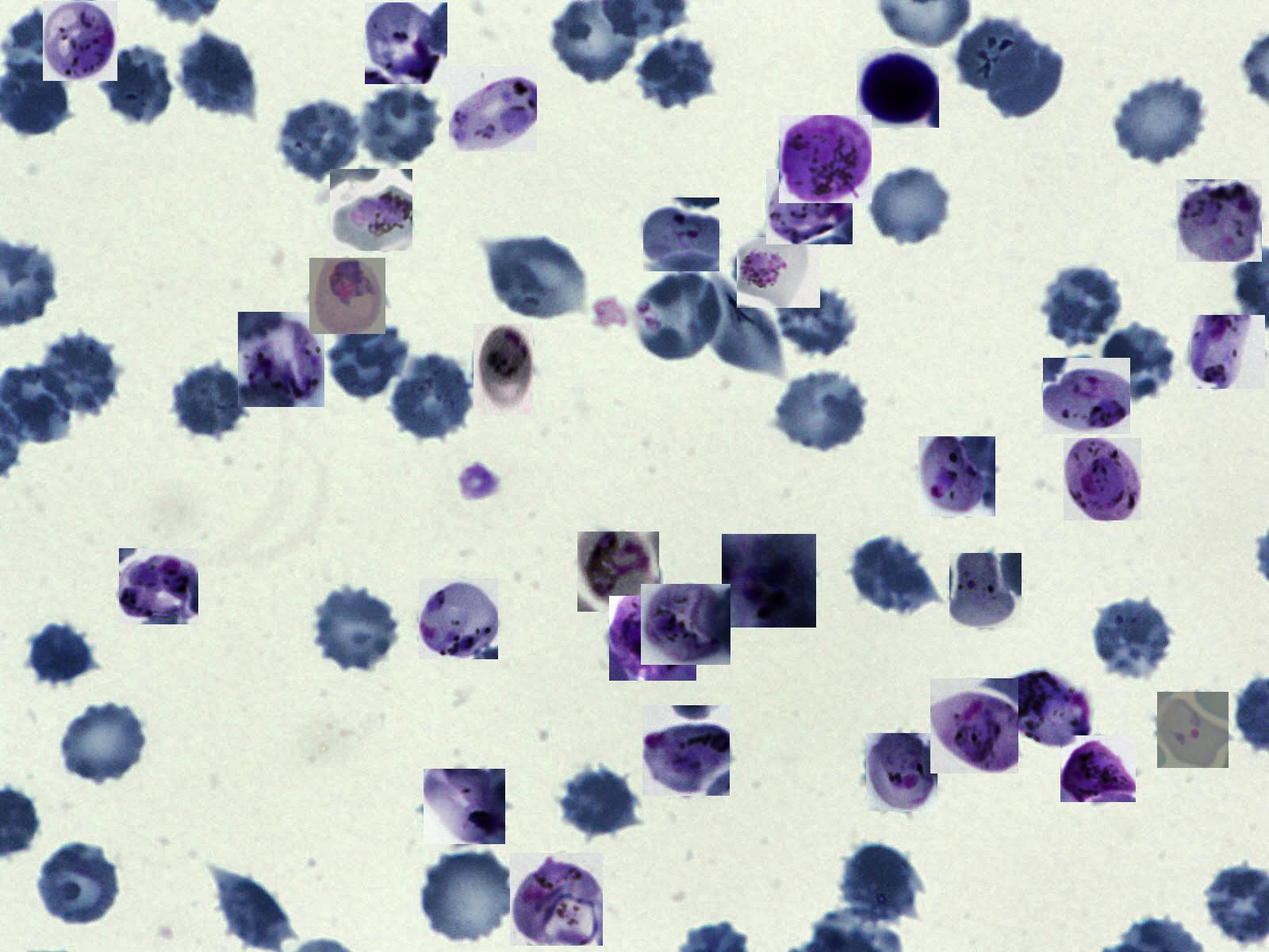Infected: (723, 534, 816, 628), (510, 853, 603, 946), (930, 678, 1018, 774), (779, 115, 872, 203), (238, 312, 324, 407), (642, 705, 730, 796), (1000, 666, 1092, 752), (449, 66, 537, 152), (609, 596, 696, 681), (642, 584, 731, 665), (1176, 179, 1262, 262), (330, 169, 412, 251), (365, 2, 447, 84), (1043, 358, 1130, 434), (857, 48, 939, 128), (577, 532, 659, 612), (766, 169, 853, 244), (419, 578, 498, 659), (1064, 438, 1141, 520), (918, 436, 995, 516), (424, 769, 505, 844), (119, 548, 198, 624), (43, 1, 117, 81), (737, 237, 820, 308), (310, 258, 386, 334), (866, 733, 937, 812), (1190, 315, 1265, 389), (643, 198, 719, 271), (949, 553, 1022, 628), (1157, 692, 1229, 768), (473, 324, 533, 415), (1060, 735, 1136, 802)
Uninfected: (420, 848, 515, 946), (486, 233, 588, 322), (697, 275, 785, 374), (1114, 76, 1208, 163), (59, 699, 150, 785), (773, 369, 868, 451), (310, 584, 398, 670), (633, 271, 719, 359), (36, 841, 120, 926), (868, 165, 953, 248), (212, 867, 295, 952), (956, 15, 1040, 98), (355, 83, 442, 163), (390, 357, 473, 440), (1091, 598, 1174, 680), (838, 842, 920, 925), (38, 332, 119, 416), (849, 536, 934, 616), (278, 99, 363, 179), (1095, 323, 1178, 404), (328, 322, 413, 401), (1041, 264, 1122, 345), (179, 31, 256, 116), (775, 282, 858, 359), (987, 36, 1062, 121), (2, 11, 85, 86), (102, 43, 174, 129), (637, 33, 718, 108), (167, 362, 246, 436), (561, 766, 641, 837), (24, 618, 94, 684)
